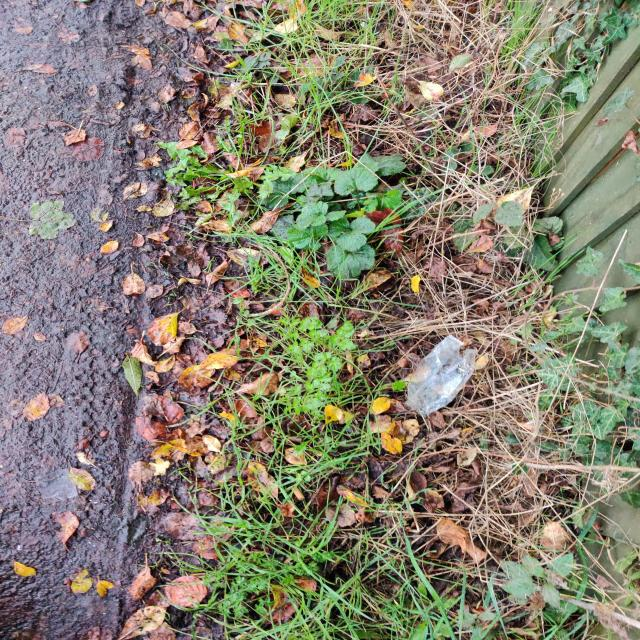litter: (403, 335, 475, 418)
